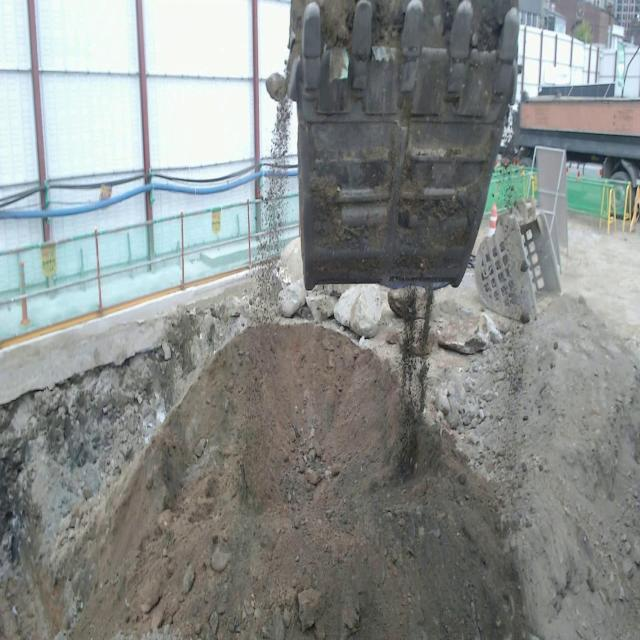stone: (269, 237, 338, 320), (431, 300, 503, 355), (334, 285, 382, 337)
white-sand: (0, 222, 640, 639)
